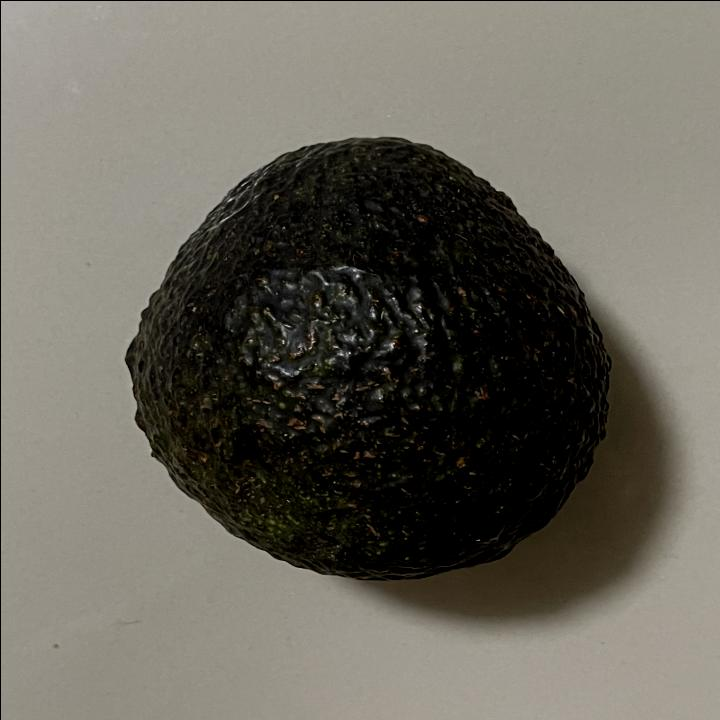Level1: (107, 124, 625, 594)
